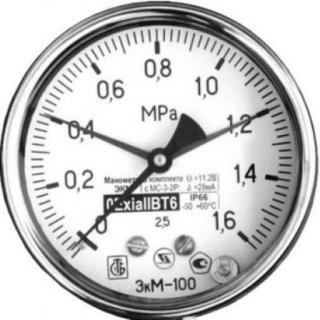gauge: (0, 1, 320, 320), (67, 218, 98, 256), (222, 218, 256, 250), (146, 147, 174, 174), (252, 103, 274, 123), (68, 236, 86, 256), (37, 108, 53, 124)
